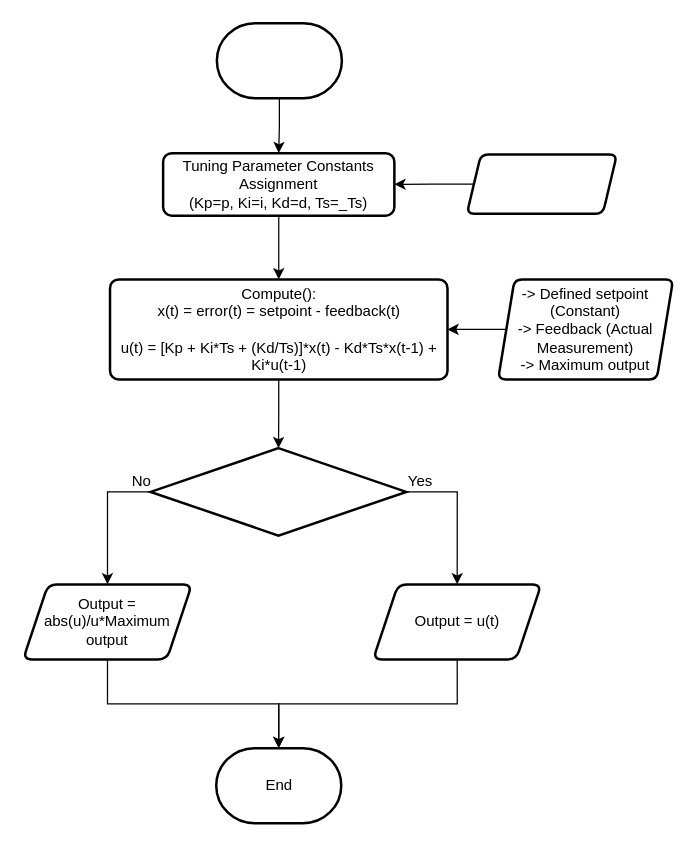
Some shapes in this 695 by 845 pixel diagram are drawn without their labels. The centre of each missing label's shape, as x and y in pixels:
abs[u(t)] < Maximum output: pixel 278 491
Start: pixel 278 60
Tuning Parameter (p, i, d, _Ts): pixel 541 183
